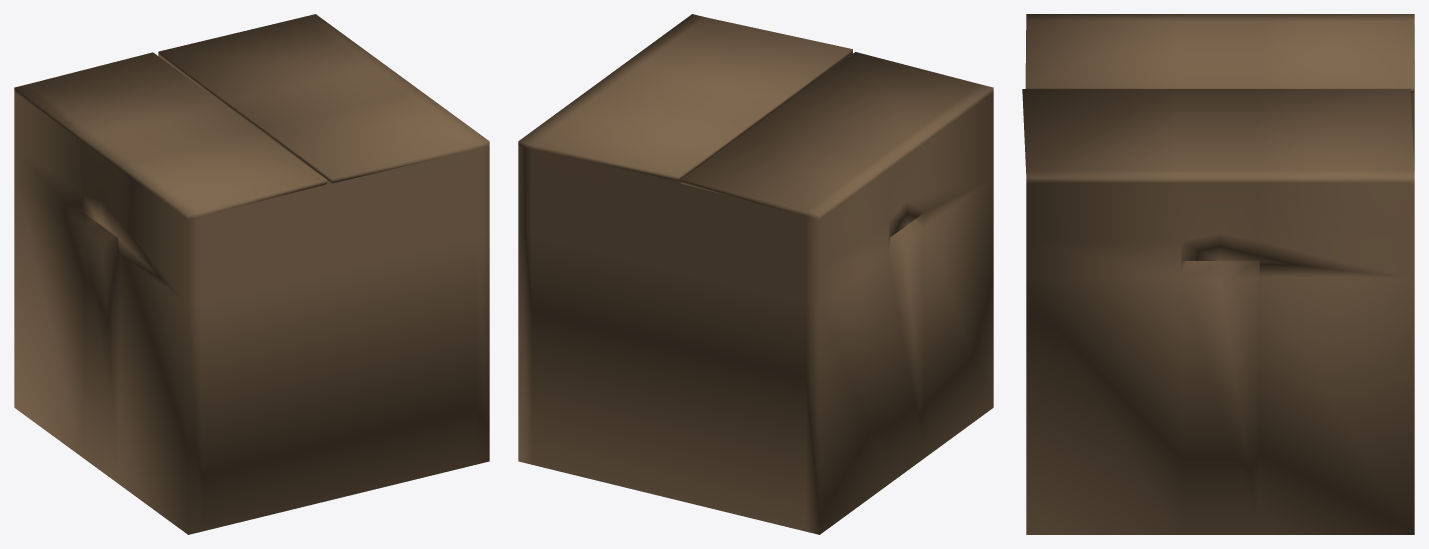
File: smbox-nf.fbx
3 renders of one model, left to right at view 1: azimuth 30°, elevation 25°; view 2: azimuth 150°, elevation 25°; view 3: azimuth 270°, elevation 25°, orthographic. The views are drawn at different scales.
Parts seen in each view (by area): view 1: Cube.002; view 2: Cube.002; view 3: Cube.002.
Part boxes in pixels (x1=…): Cube.002: x1=14, y1=14, x2=489, y2=534; Cube.002: x1=518, y1=14, x2=993, y2=534; Cube.002: x1=1022, y1=14, x2=1414, y2=534.
Size of the model in its own units: 202 by 204 by 202.
